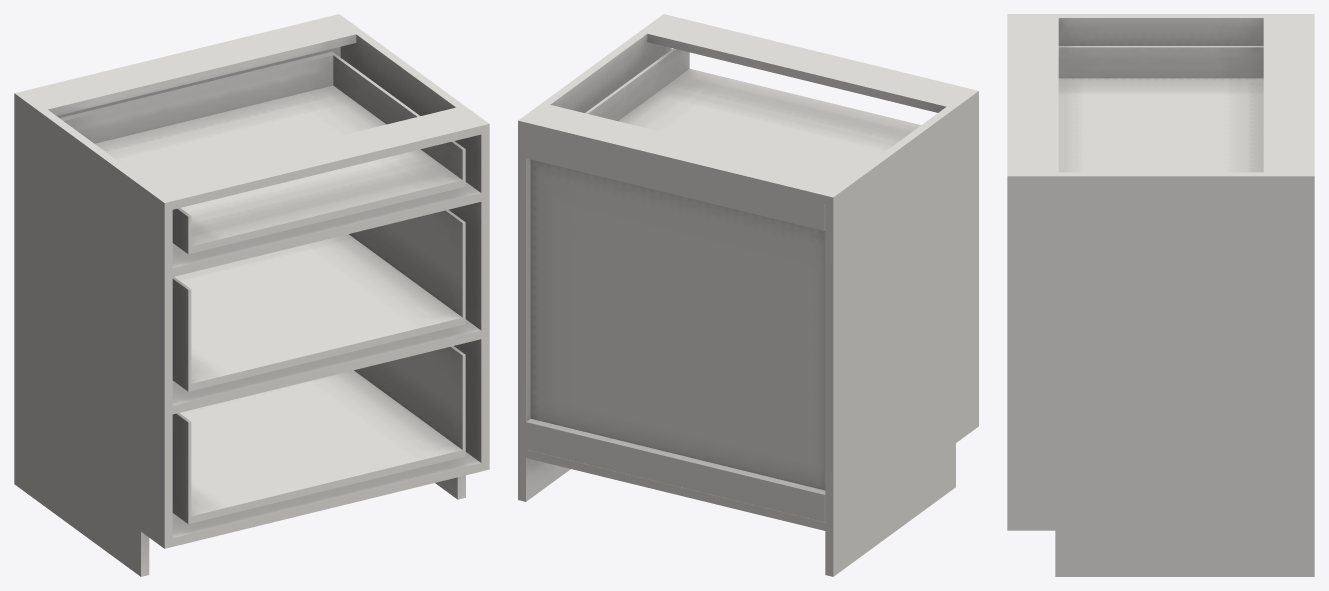
Rendered from 3-drawer-bank-base-doors-off.glb.
The picture shows the model from 3 angles, left to right: view 1: azimuth 30°, elevation 25°; view 2: azimuth 150°, elevation 25°; view 3: azimuth 270°, elevation 25°; orthographic projection. The views are drawn at different scales.
Parts seen in each view (by area): view 1: part_0, part_2; view 2: part_0, part_2; view 3: part_0, part_2.
Boxes of the visible parts, x1,y1,x2,y2 form: part_0: (14,14,489,576); part_2: (60,51,465,524); part_0: (518,14,978,576); part_2: (585,48,920,177); part_0: (1007,14,1314,576); part_2: (1058,46,1263,172).
Size of the model in its own units: 0.762 by 0.8763 by 0.6096.
2 materials, 1 textured.
